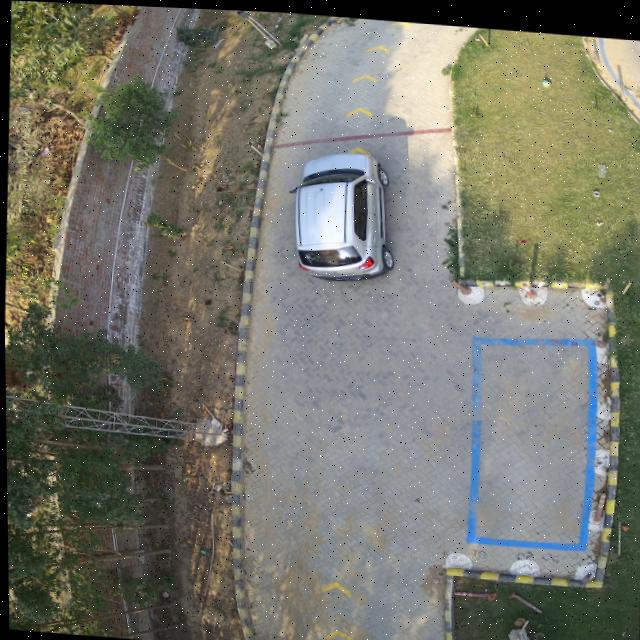car: (294, 146, 394, 277)
